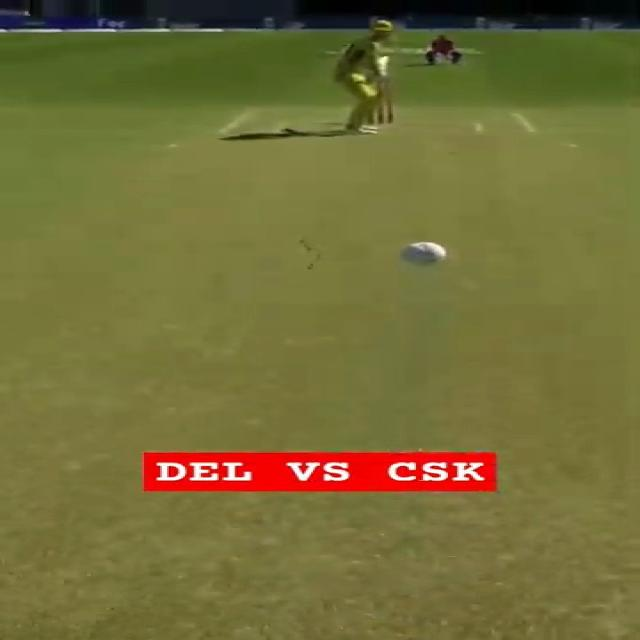ball: (393, 234, 457, 278)
